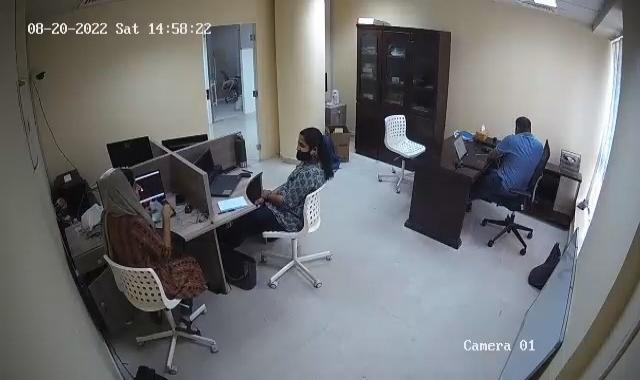no_hairnet: (100, 162, 142, 214), (290, 126, 328, 169), (510, 111, 540, 141)
